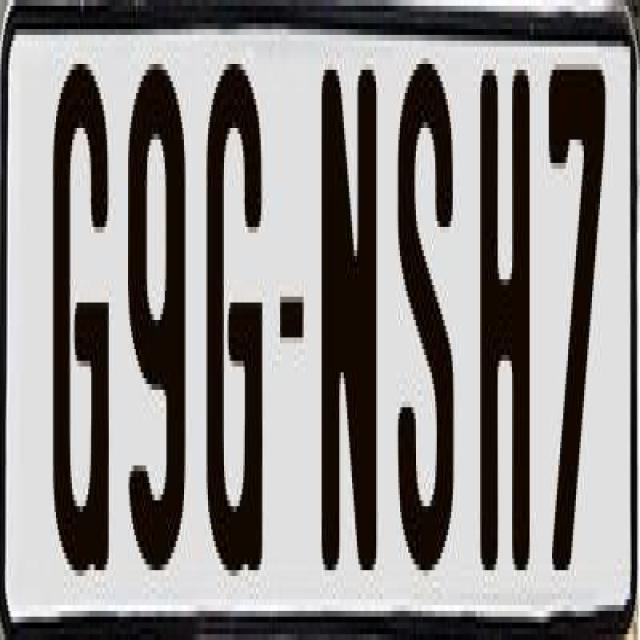7: (547, 64, 608, 576)
9: (123, 47, 187, 570)
G: (51, 63, 112, 600), (206, 58, 264, 594)
H: (476, 64, 526, 594)
N: (318, 64, 381, 582)
S: (397, 52, 461, 576)
